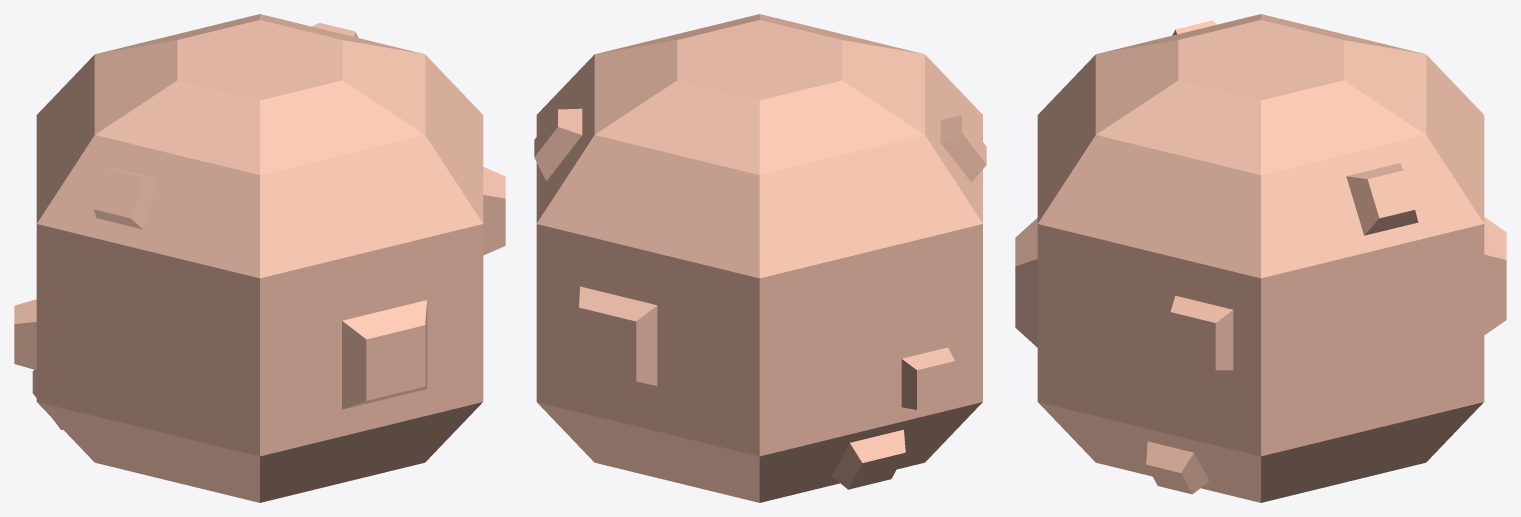
File: meteor_large.glb
3 views of the same model, side by side, from view 1: azimuth 30°, elevation 25°; view 2: azimuth 150°, elevation 25°; view 3: azimuth 270°, elevation 25° (orthographic).
Visible parts, largest first — view 1: meteor_detailed; view 2: meteor_detailed; view 3: meteor_detailed.
Boxes of the visible parts, left/top/right/bottom form: meteor_detailed: left=14, top=14, right=505, bottom=502; meteor_detailed: left=534, top=14, right=986, bottom=502; meteor_detailed: left=1015, top=14, right=1506, bottom=502.
Bounding box in the file's own units: 0.866 × 0.735 × 0.825.
